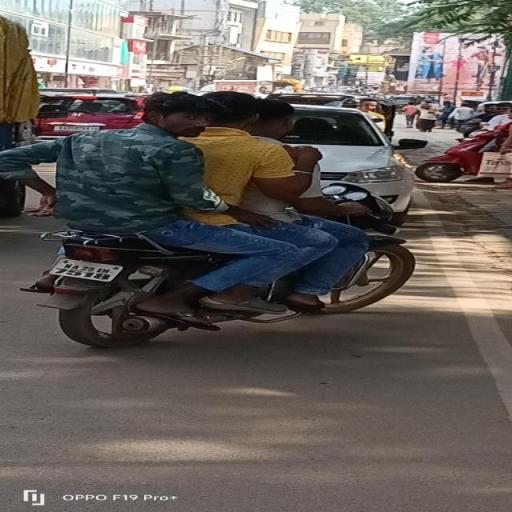tripple riding: (0, 82, 350, 229)
